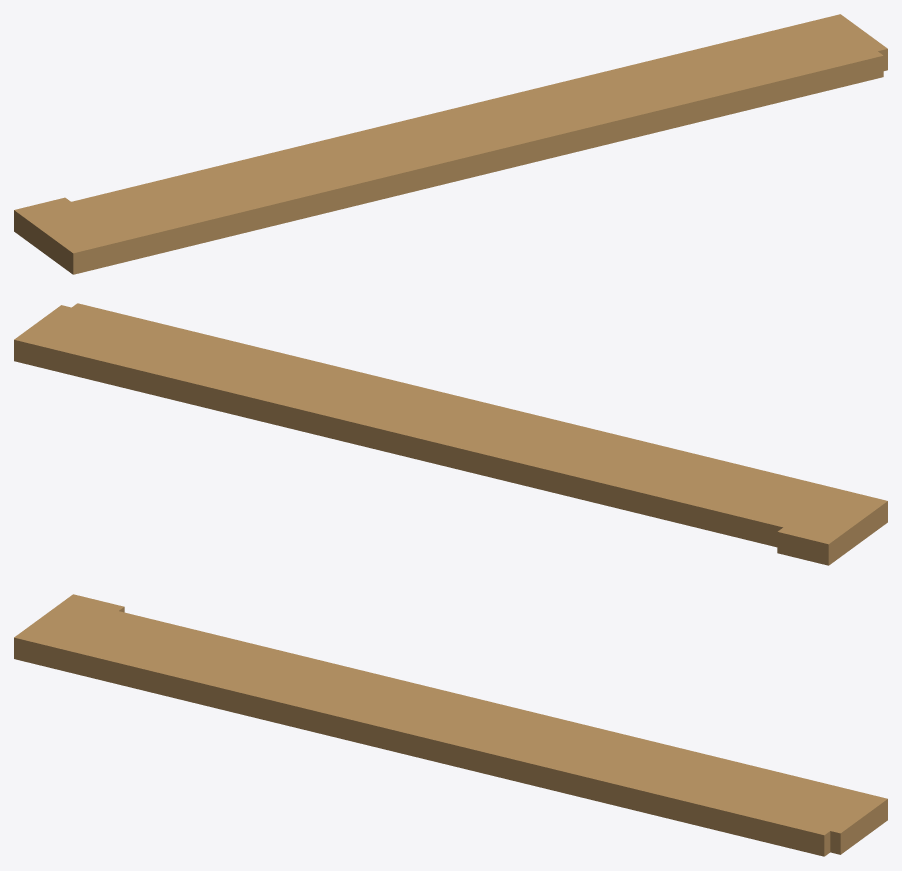
Rendered from wooden_plank.glb.
3 views of the same model, one above another, from view 1: azimuth 30°, elevation 25°; view 2: azimuth 150°, elevation 25°; view 3: azimuth 330°, elevation 25° (orthographic).
Parts seen in each view (by area): view 1: material:cutStock; view 2: material:cutStock; view 3: material:cutStock.
Boxes of the visible parts, x1,y1,x2,y2 form: material:cutStock: [14, 14, 887, 274]; material:cutStock: [14, 303, 887, 565]; material:cutStock: [14, 594, 887, 856].
Size of the model in its own units: 0.8 by 0.02 by 0.1.
